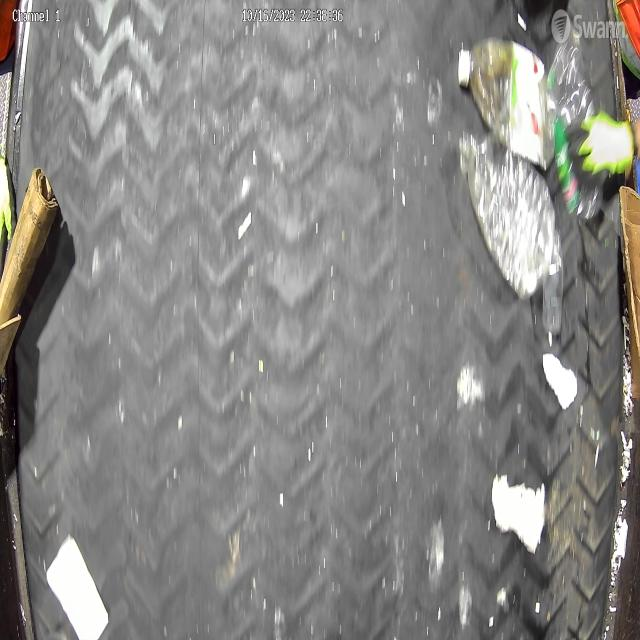plastic_bottle: (457, 131, 562, 299), (459, 37, 554, 166)
